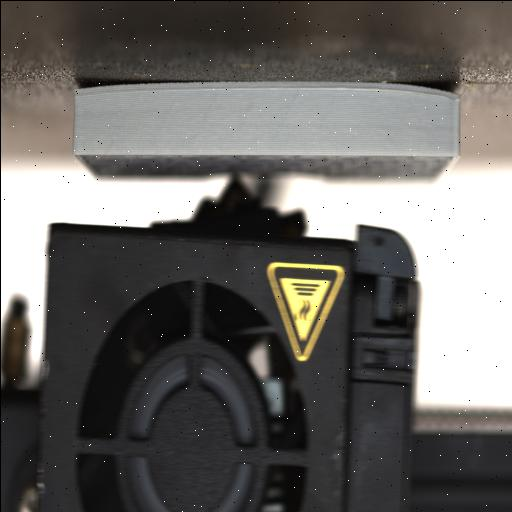warp: (412, 78, 466, 106), (66, 81, 102, 101)
